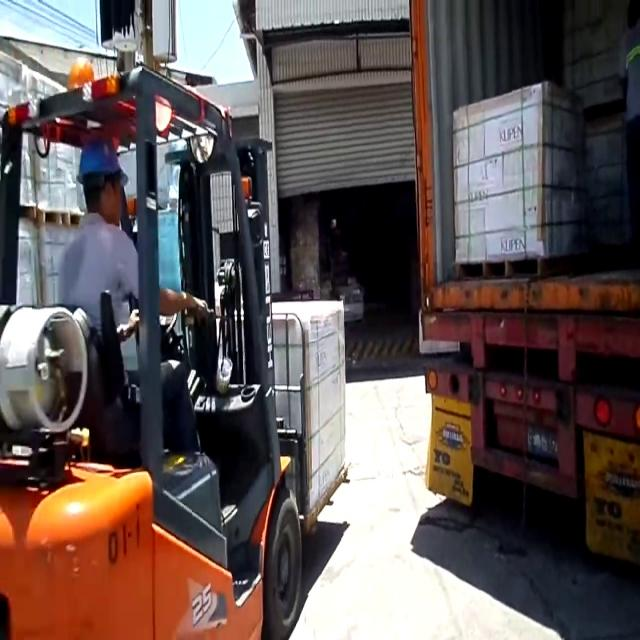Chariot elevateur: (0, 56, 333, 640)
